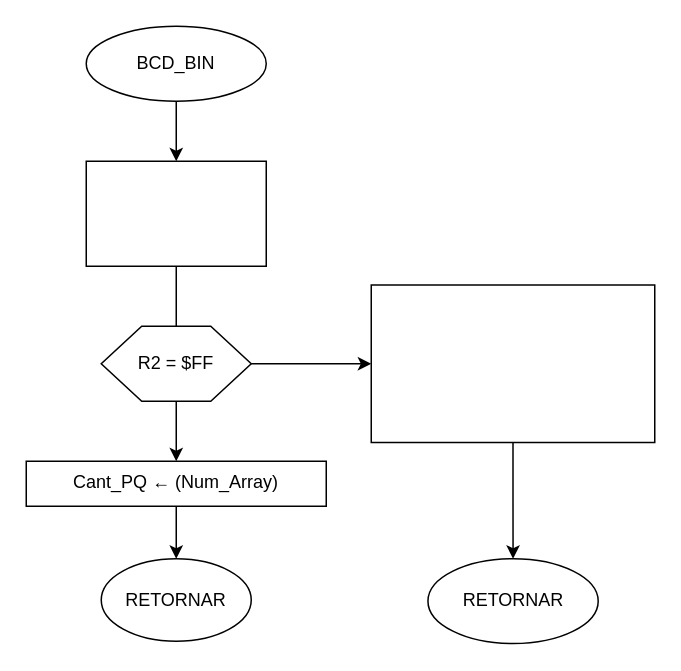
This 681x671 diagram has some shape labels left out. Here are the shapes that lost their labels. From the top down, the box of each, then its label:
(85, 160, 266, 266): J ← Num_Array R2 ← (J+1)
(370, 284, 655, 442): R1 ← 0 R2 ← (Num_Array) K ← 10 RR1 ← RR1*K R2 ← (R2) + (CantPQ) CanrPQ ← (R2)
